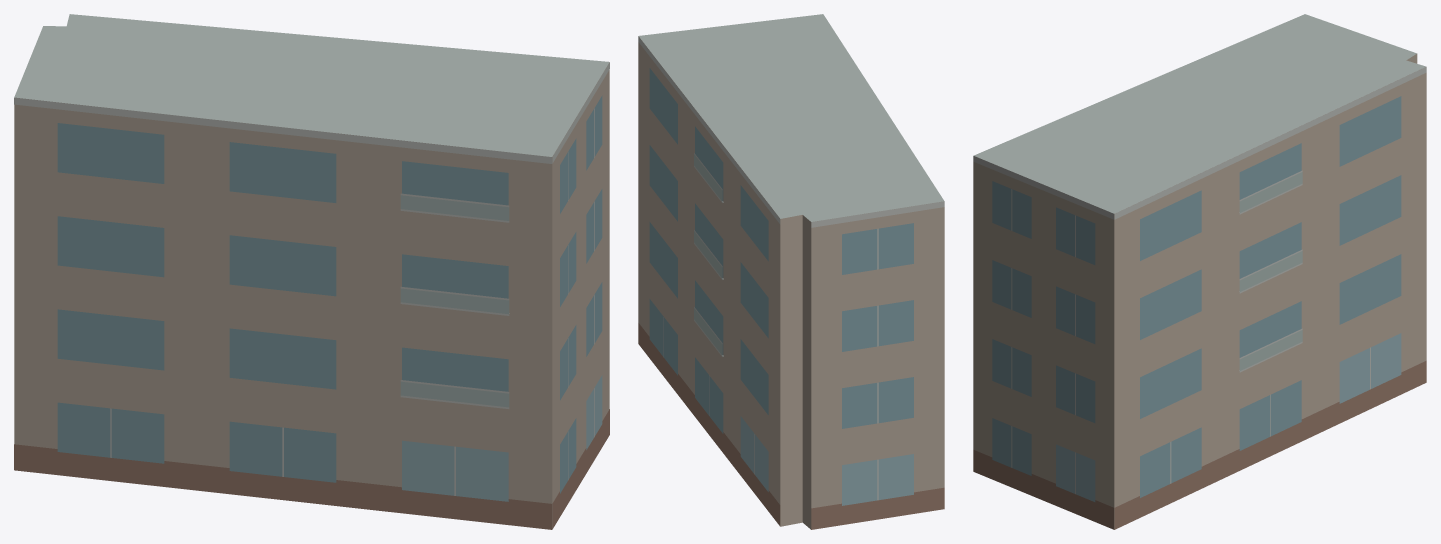
File: survey-upis-32784448.glb
The picture shows the model from 3 angles, left to right: view 1: azimuth 30°, elevation 25°; view 2: azimuth 150°, elevation 25°; view 3: azimuth 270°, elevation 25°; orthographic projection. The views are drawn at different scales.
Parts seen in each view (by area): view 1: survey-upis-32784448.tmp; view 2: survey-upis-32784448.tmp; view 3: survey-upis-32784448.tmp.
Boxes of the visible parts, <box> form: survey-upis-32784448.tmp: <box>14,14,609,529</box>; survey-upis-32784448.tmp: <box>638,14,944,529</box>; survey-upis-32784448.tmp: <box>973,14,1426,529</box>.
Size of the model in its own units: 17.51 by 12.9 by 16.77.
